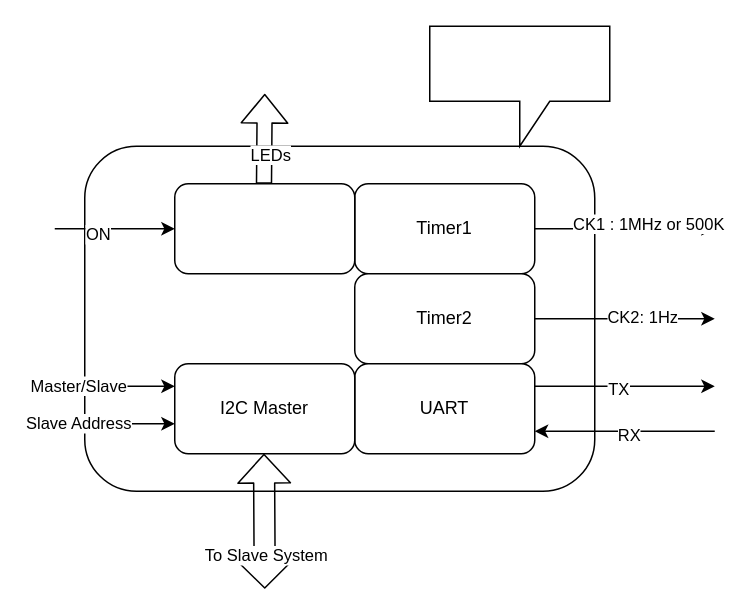
The diagram is 753 pixels wide and 615 high, and some of its shapes have lost their labels. Each missing label, with the box of its shape:
GPIO: (173, 182, 355, 274)
PyBoard: (428, 25, 610, 146)
